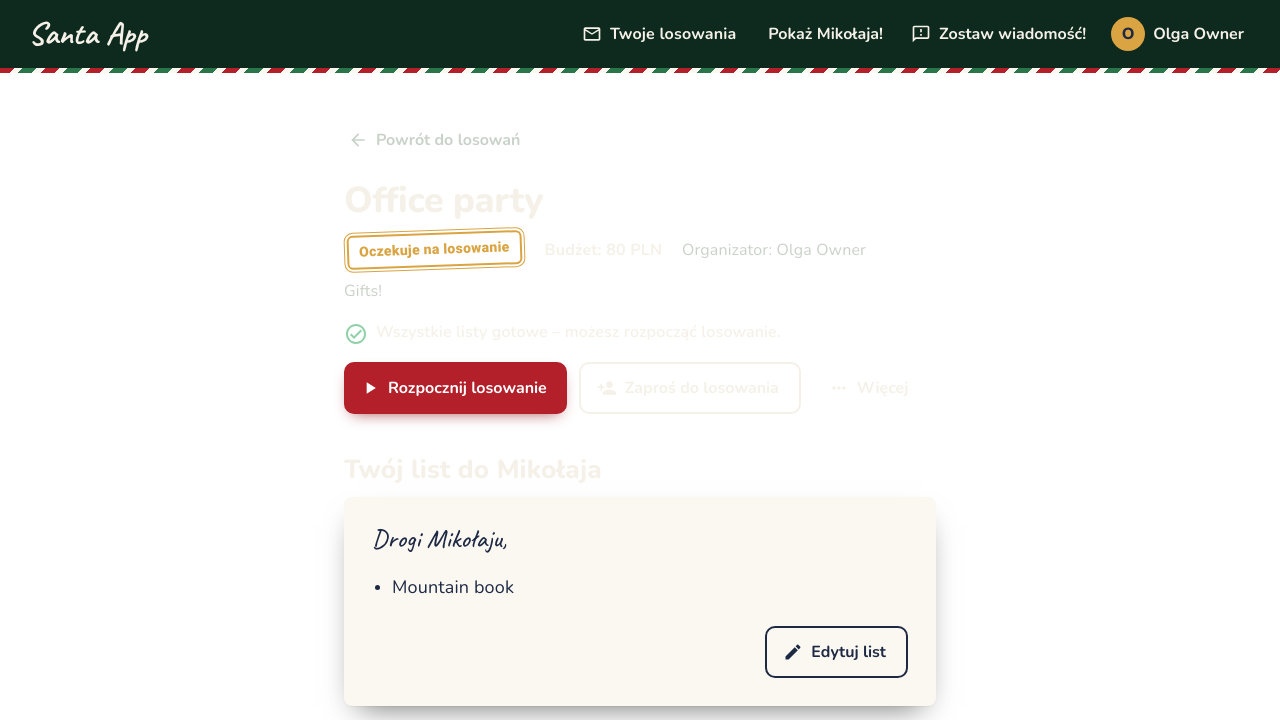
Scenario: DrawPage › does not start the draw with a wrong password
Click the button "Rozpocznij losowanie" at (455, 388), box [344, 362, 567, 414]
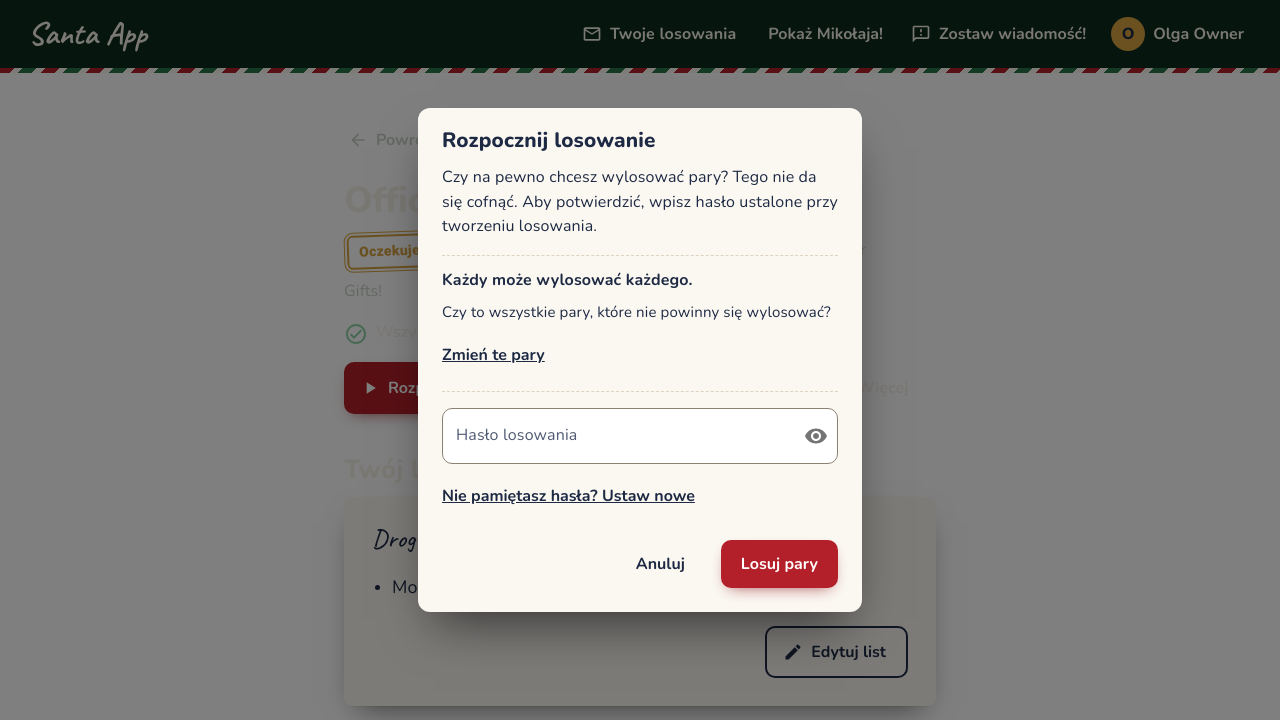
Type "wrong-1" into the password field labelled "Hasło losowania" at (615, 436), box [442, 408, 788, 464]
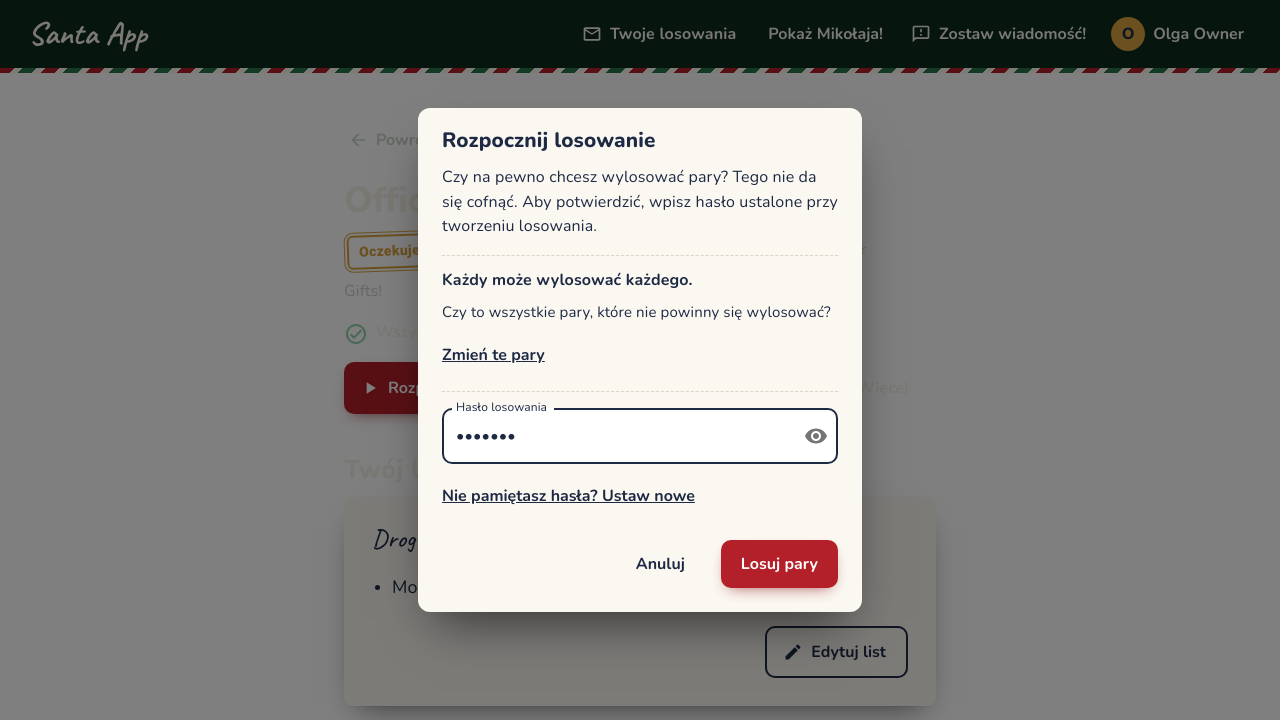
Click the button "Losuj pary" at (779, 564), box [721, 540, 838, 588]
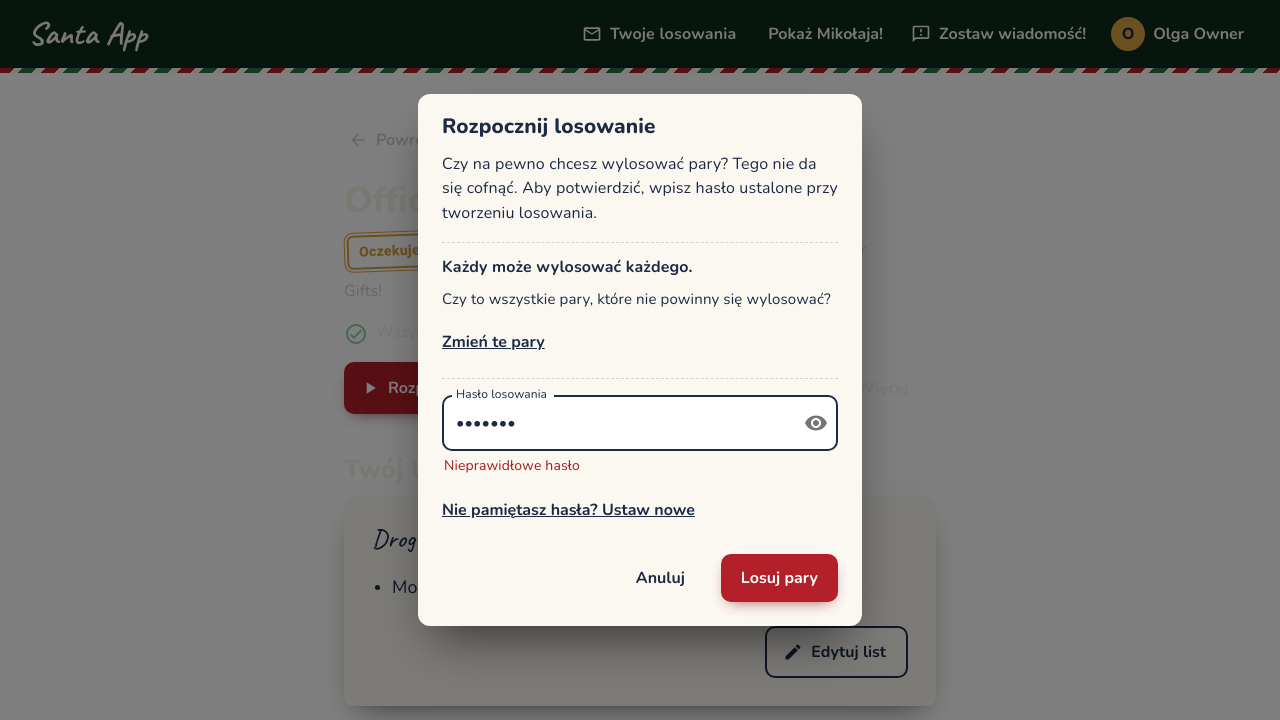
Now the text "Nieprawidłowe hasło" is shown, box [444, 456, 580, 475]
